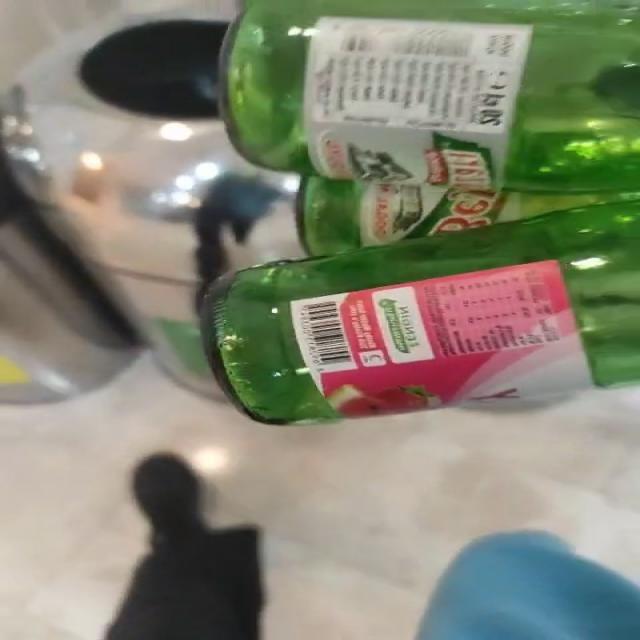glass: (197, 0, 640, 424)
